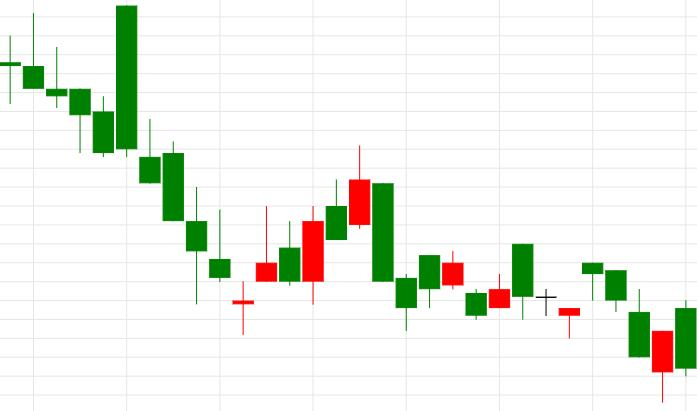morning_star_rise: (116, 5, 277, 336)
